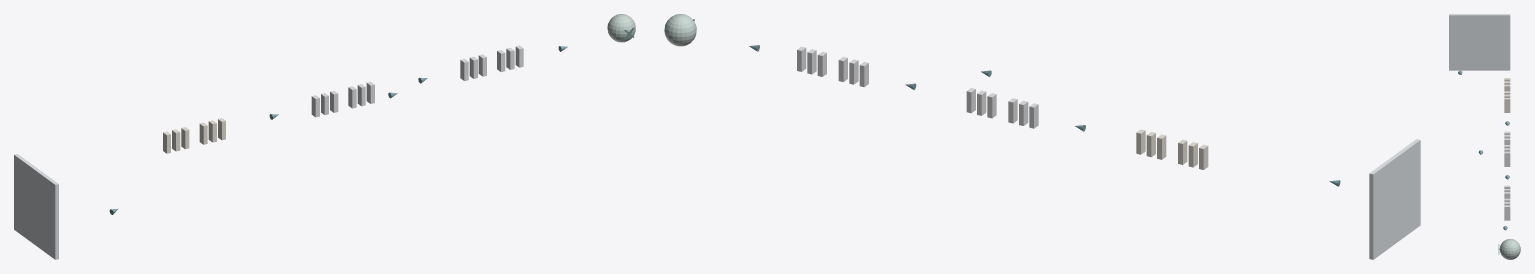
3 views of the same model, side by side, from view 1: azimuth 30°, elevation 25°; view 2: azimuth 150°, elevation 25°; view 3: azimuth 270°, elevation 25° (orthographic). The views are drawn at different scales.
Parts seen in each view (by area): view 1: Feature U · C × H × W, Channel scale · C × H × W; view 2: Feature U · C × H × W, Channel scale · C × H × W; view 3: Feature U · C × H × W, Channel scale · C × H × W, FC + sigmoid · C × 1 × 1, FC + ReLU · C/r × 1 × 1, Global avg pool · C × 1 × 1.
Part boxes in pixels (x1,y1,x2,y2): Feature U · C × H × W: [14, 154, 58, 259]; Channel scale · C × H × W: [607, 14, 635, 42]; Feature U · C × H × W: [1369, 139, 1420, 259]; Channel scale · C × H × W: [664, 14, 696, 46]; Feature U · C × H × W: [1449, 14, 1510, 70]; Channel scale · C × H × W: [1499, 239, 1520, 259]; FC + sigmoid · C × 1 × 1: [1504, 205, 1510, 220]; FC + ReLU · C/r × 1 × 1: [1504, 151, 1510, 166]; Global avg pool · C × 1 × 1: [1504, 98, 1510, 112].
Bounding box in the file's own units: 22.5 × 2.6 × 3.05.
